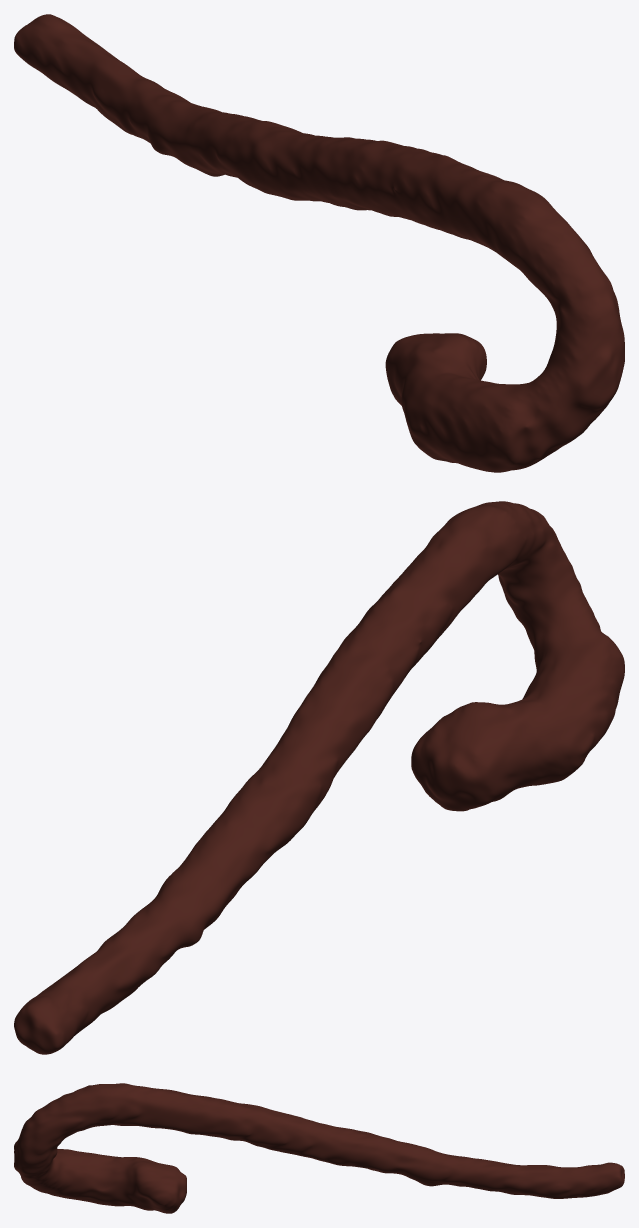
The model's file is aorta.obj.
3 views of the same model, one above another, from view 1: azimuth 30°, elevation 25°; view 2: azimuth 150°, elevation 25°; view 3: azimuth 270°, elevation 25° (orthographic). The views are drawn at different scales.
Visible parts, largest first — view 1: grp1; view 2: grp1; view 3: grp1.
Part boxes in pixels (x1,y1,x2,y2): grp1: [14, 14, 624, 472]; grp1: [14, 501, 624, 1054]; grp1: [14, 1083, 624, 1213].
Bounding box in the file's own units: 55.42 × 89.13 × 359.
